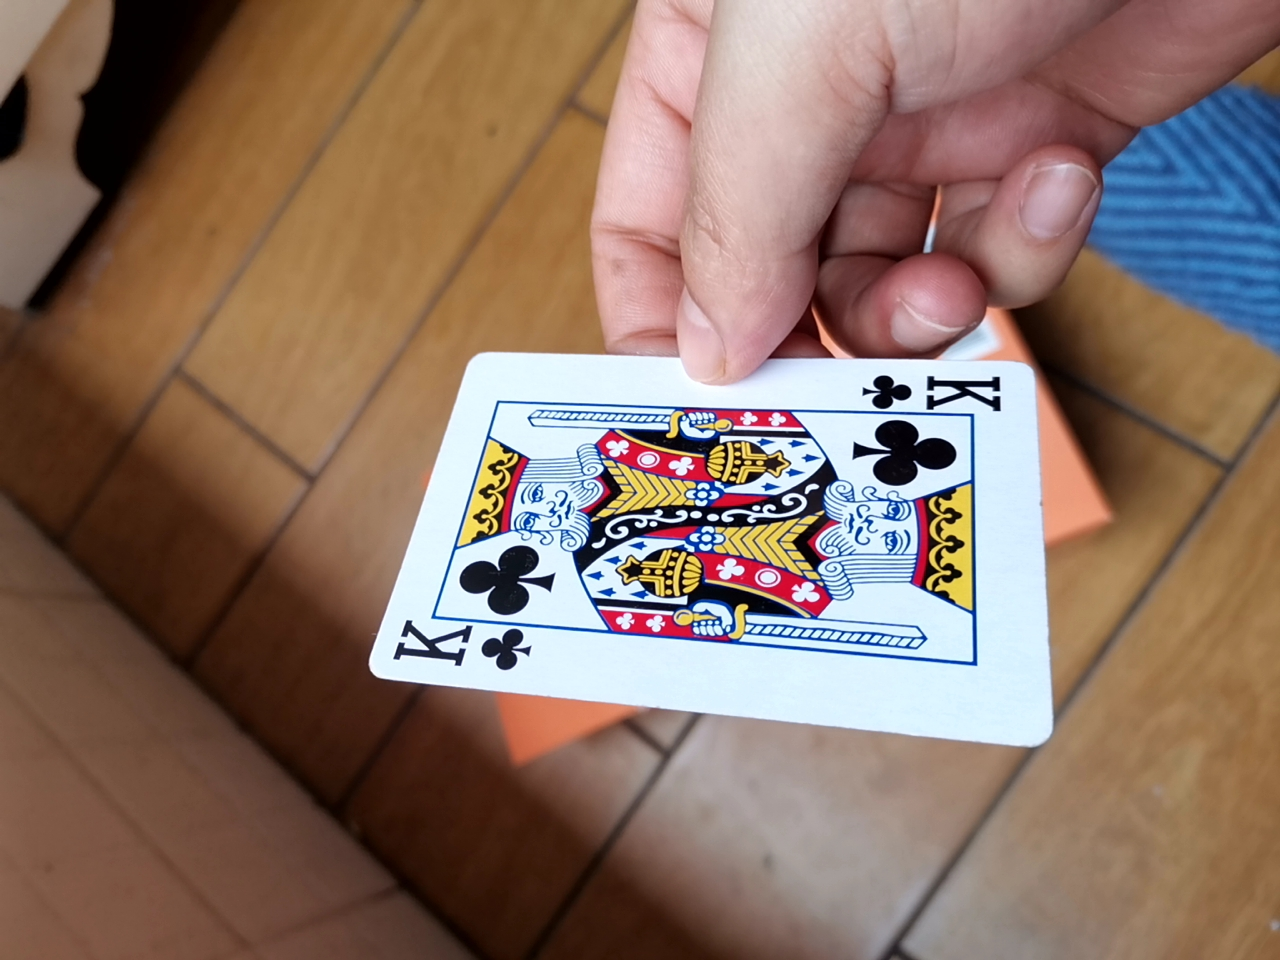mh k: (367, 337, 1065, 736)
